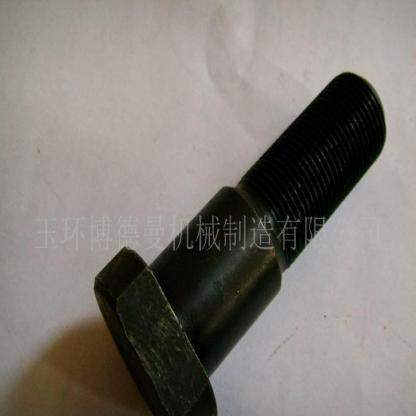FOD: (91, 68, 389, 415)
